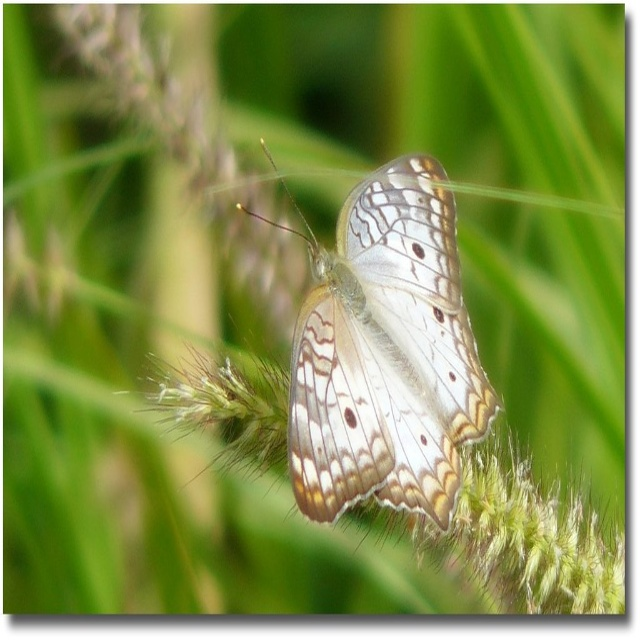Butterfly: (240, 131, 501, 542)
